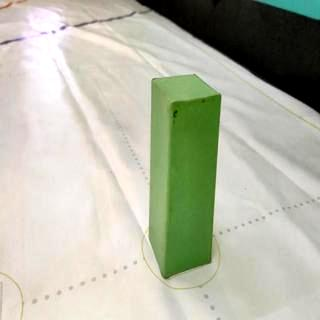greenbox: (148, 74, 222, 282)
